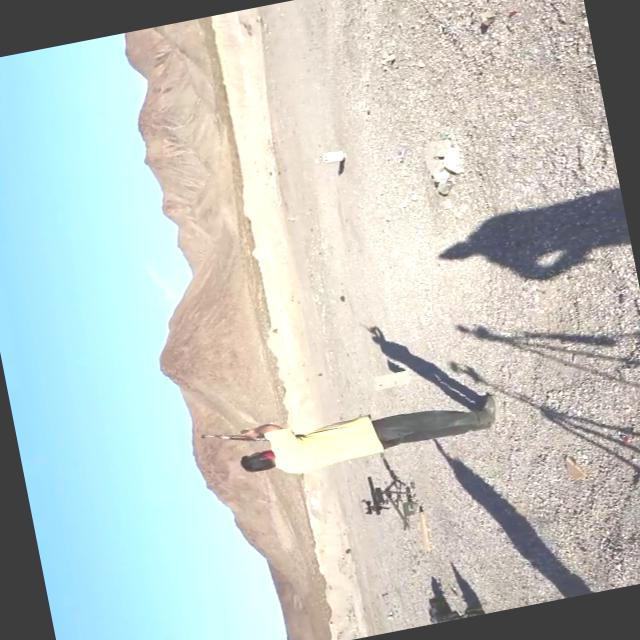long weapon: (184, 395, 314, 462), (346, 462, 431, 531)
